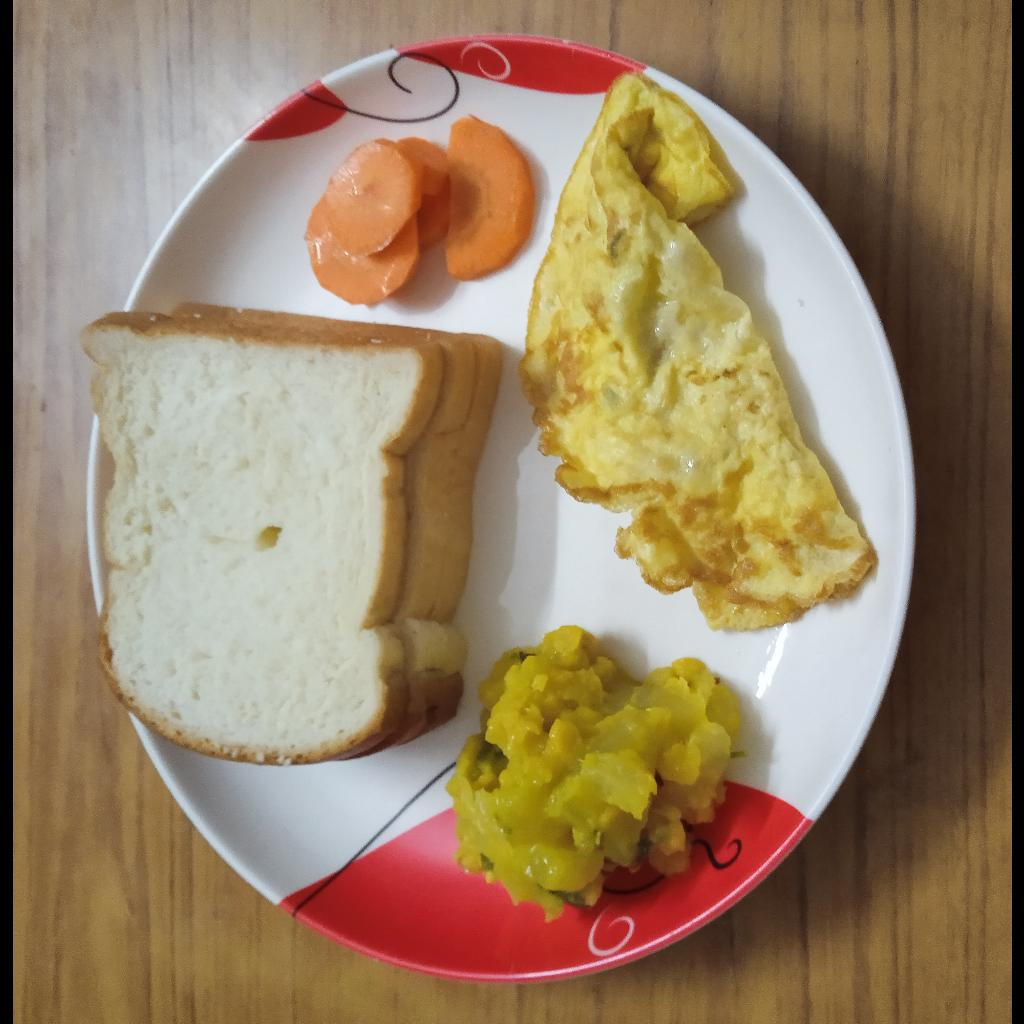bread: (78, 299, 502, 766)
carrot: (302, 113, 534, 306)
egg-poached: (515, 76, 876, 633)
papaya: (445, 622, 739, 923)
